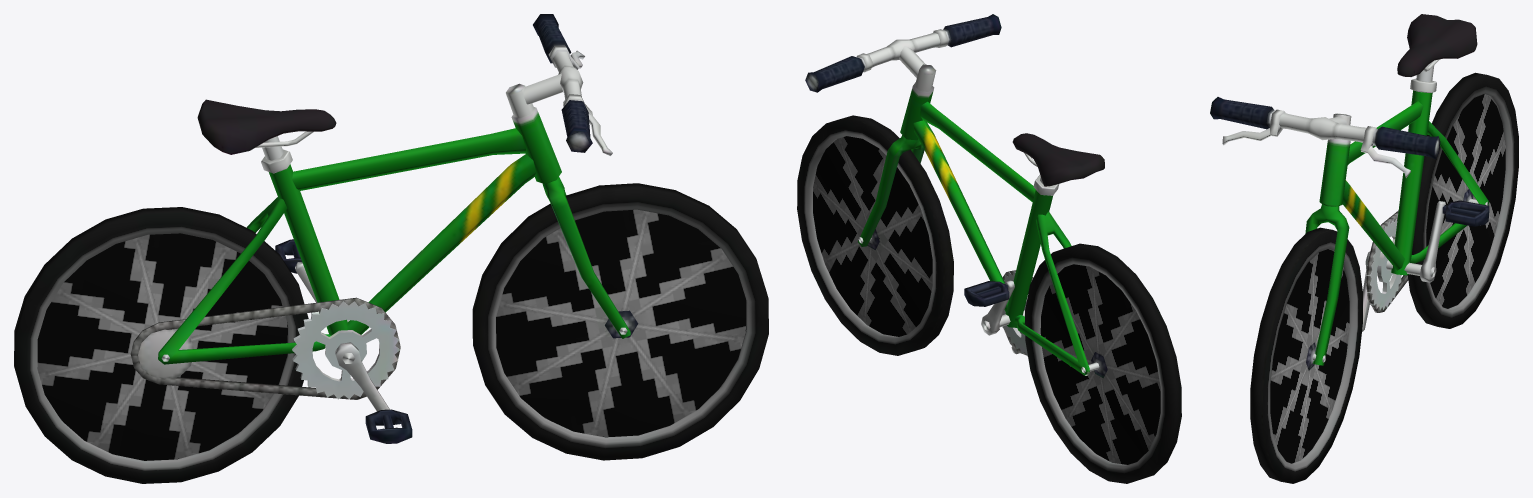
The picture shows the model from 3 angles, left to right: view 1: azimuth 30°, elevation 25°; view 2: azimuth 150°, elevation 25°; view 3: azimuth 270°, elevation 25°; orthographic projection. The views are drawn at different scales.
Bounding box in the file's own units: 17.9 × 10.93 × 9.11.
Materials: 2 (2 with a texture image).
